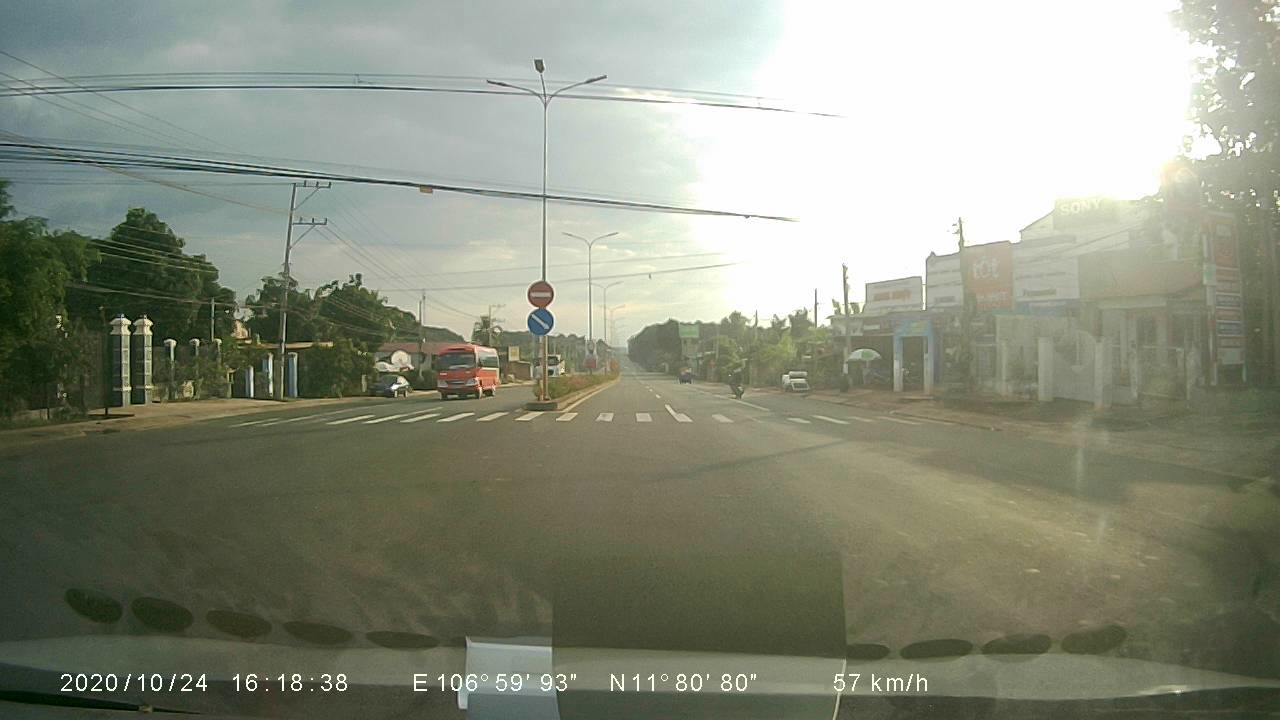Cam di nguoc chieu: (524, 279, 556, 310)
Huong di phai re phai: (524, 307, 557, 338)
